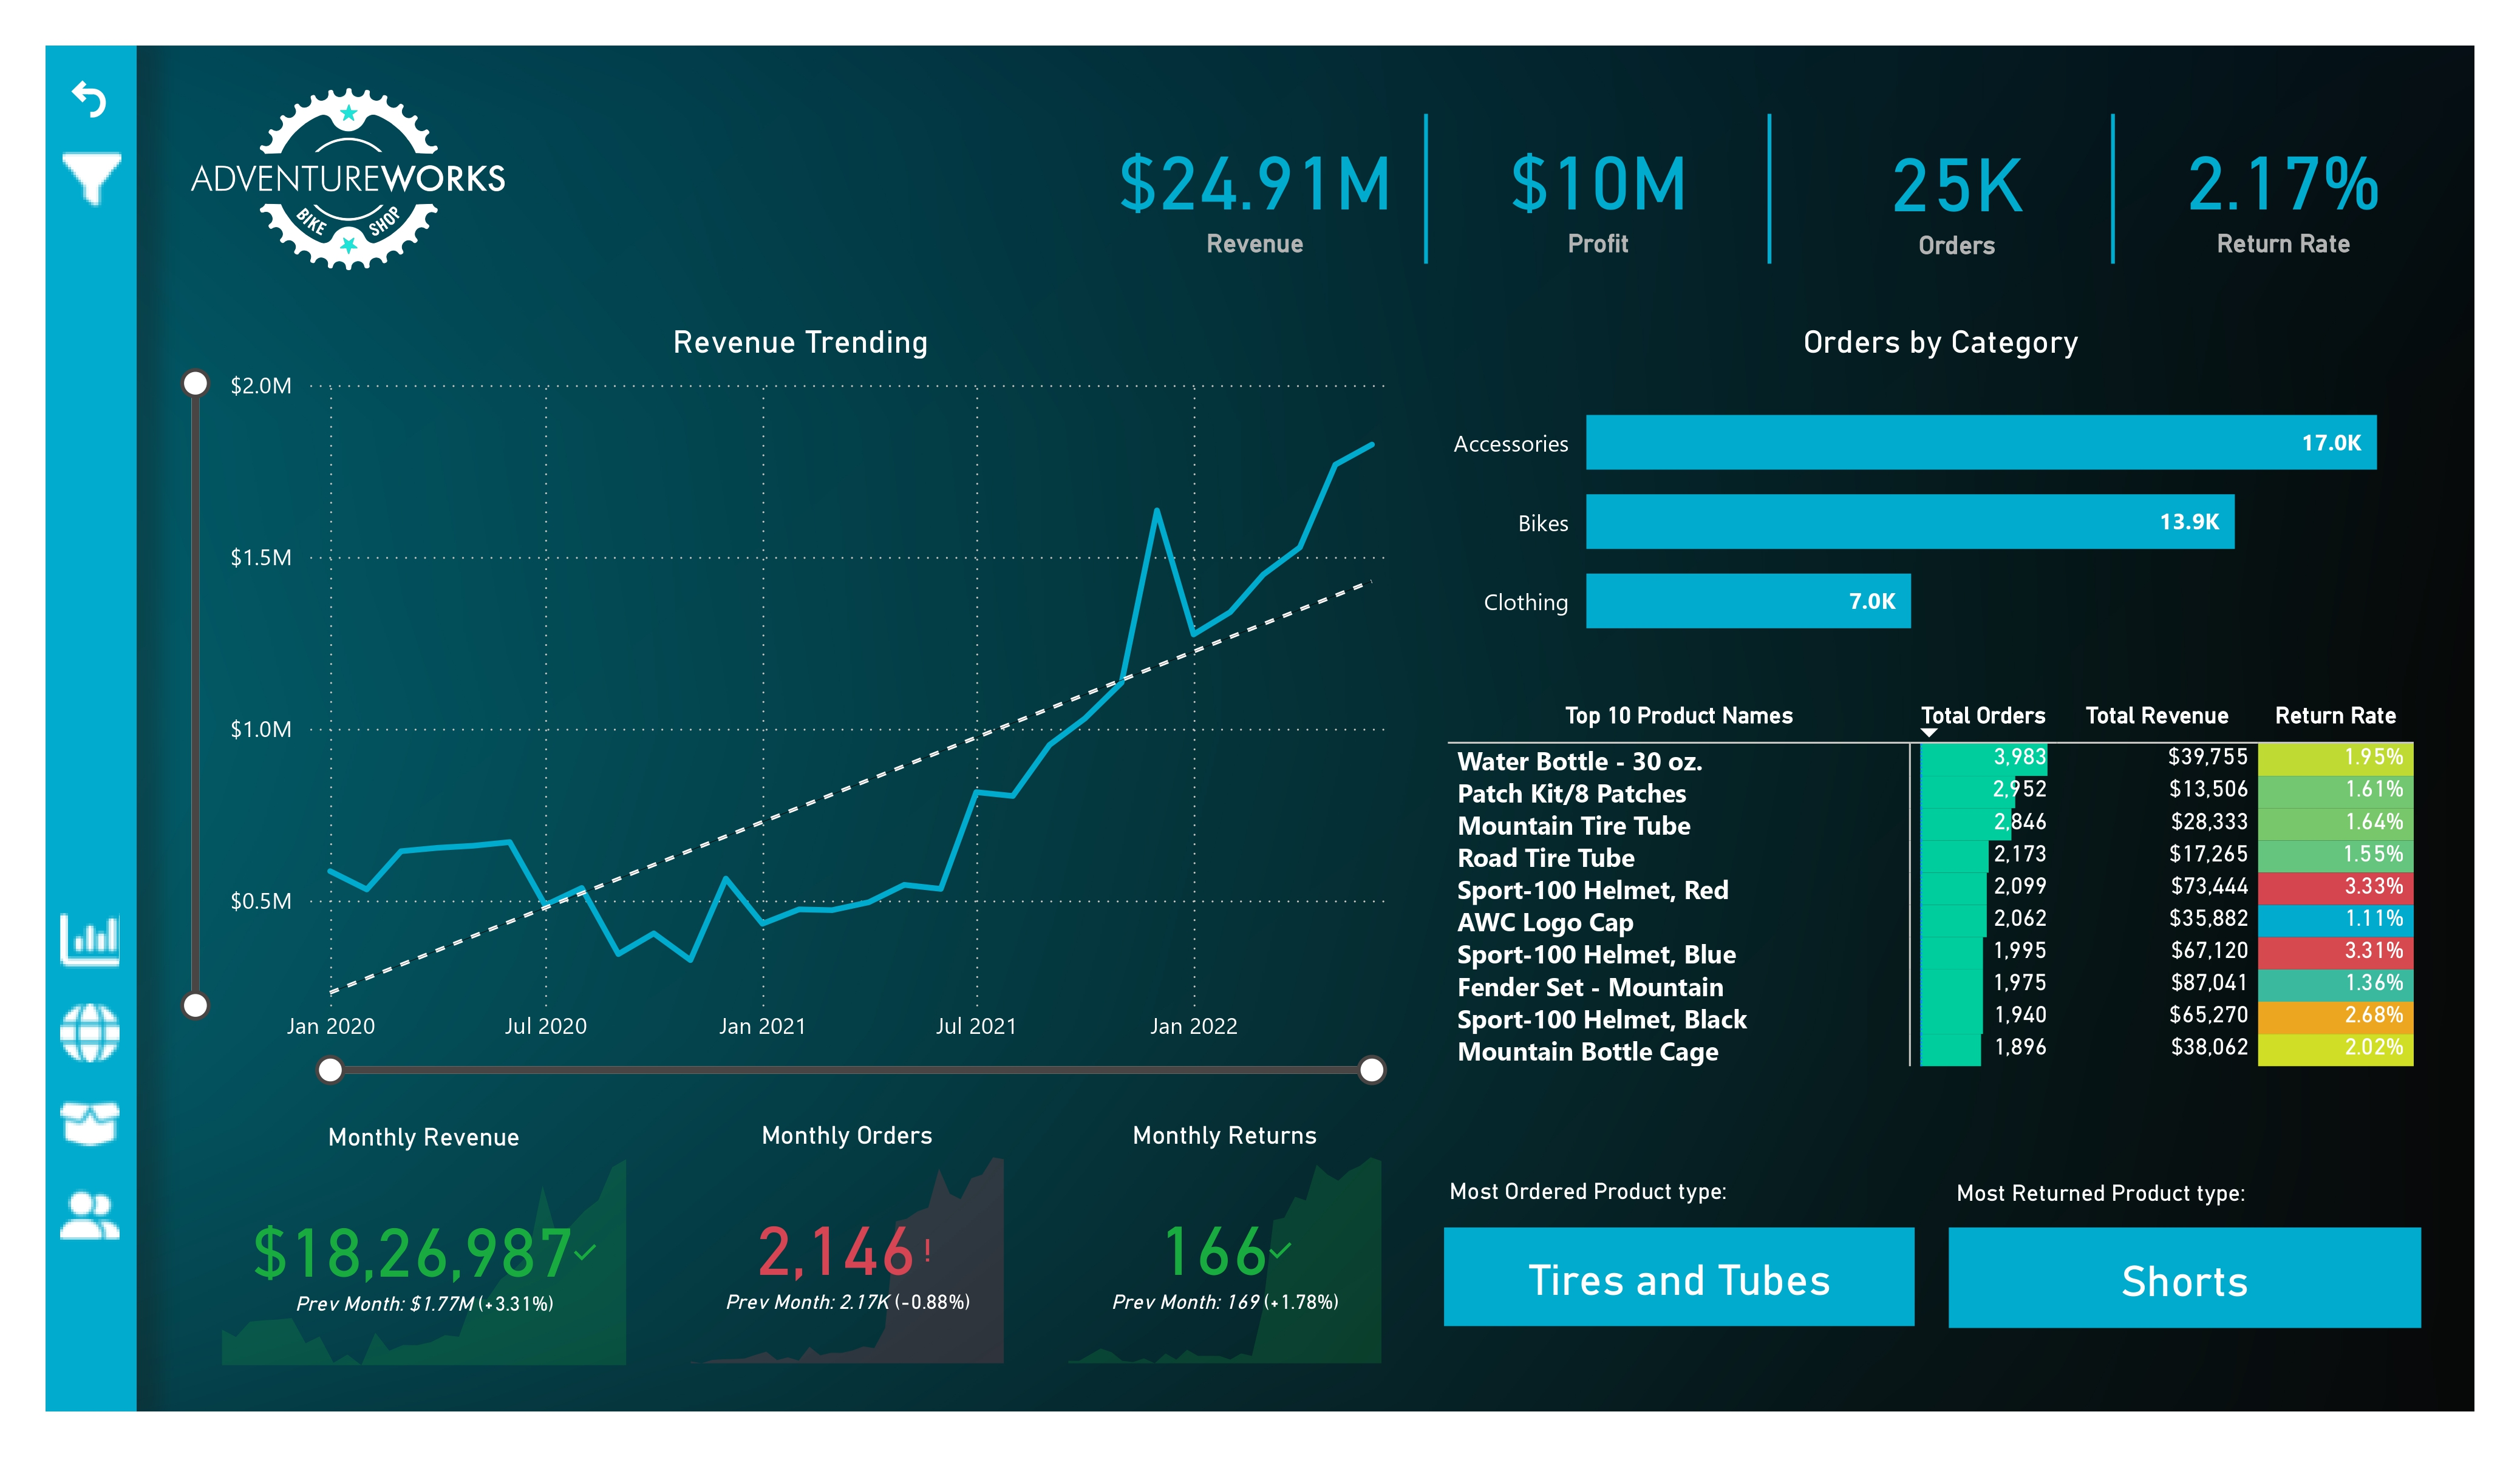

What the dashboard file says about the page in this screenshot:
{"tool":"powerbi","page":{"name":"Exces Dashboard","canvas":[1280,720],"ordinal":0},"visuals":[{"type":"shape","box":[0,0,47.6,720.1],"z":0},{"type":"image","box":[67.7,8.9,182.6,122],"z":1000},{"type":"card","fields":{"Values":["Sum(Sales Data.Revenue)"]},"box":[555.8,28.1,163,95.3],"z":2000},{"type":"card","fields":{"Values":["Measure Calculations.Total Profit"]},"box":[736.6,28.1,163,95.3],"z":3000},{"type":"card","fields":{"Values":["Measure Calculations.All Orders"]},"box":[925.9,28.5,163.2,95],"z":4000},{"type":"card","fields":{"Values":["Measure Calculations.Return Rate"]},"box":[1098.3,28.1,163,95.3],"z":5000},{"type":"shape","box":[709,36.1,37.4,79.3],"z":6000},{"type":"shape","box":[889.9,36.1,37.4,79.3],"z":7000},{"type":"shape","box":[1070.7,36.1,37.4,79.3],"z":8000},{"type":"lineChart","title":"Revenue Trending","fields":{"Y":["Measure Calculations.Total Revenue"],"Category":["Calendar Lookup.Year","Calendar Lookup.Start of Quarter","Calendar Lookup.Start of Month"]},"box":[67.7,146.1,660,405.3],"z":9000},{"type":"clusteredBarChart","title":"Orders by Category","fields":{"Category":["Product Categories Lookup.CategoryName"],"Y":["Measure Calculations.Total Orders"]},"box":[732.4,146.3,533.2,184.8],"z":10000},{"type":"pivotTable","fields":{"Rows":["Product Lookup.ProductName"],"Values":["Measure Calculations.Total Orders","Measure Calculations.Total Revenue","Measure Calculations.Return Rate"]},"box":[734.3,340.7,528.4,210.8],"z":11000},{"type":"kpi","title":"Monthly Revenue","fields":{"Indicator":["Measure Calculations.Total Revenue"],"TrendLine":["Calendar Lookup.Start of Month"],"Goal":["Measure Calculations.Previous Month Revenue"]},"box":[87.8,567.8,223.2,132.9],"z":12000},{"type":"kpi","title":"Monthly Orders","fields":{"TrendLine":["Calendar Lookup.Start of Month"],"Indicator":["Measure Calculations.Total Orders"],"Goal":["Measure Calculations.Previous Month Orders"]},"box":[334.7,567.4,175.3,133],"z":13000},{"type":"kpi","title":"Monthly Returns","fields":{"TrendLine":["Calendar Lookup.Start of Month"],"Indicator":["Measure Calculations.Total Returns"],"Goal":["Measure Calculations.Previous Month Returns"]},"box":[533.8,567.4,175.3,133],"z":14000},{"type":"card","fields":{"Values":["Min(Product Subcategories Lookup.SubcategoryName)"]},"box":[736.7,622.7,248.7,52.7],"z":15000},{"type":"textbox","box":[735,589,191.7,27.6],"z":16000},{"type":"card","fields":{"Values":["Min(Product Subcategories Lookup.SubcategoryName)"]},"box":[1003.3,623.2,248.7,52.7],"z":17000},{"type":"textbox","box":[1001.5,589.5,191.7,27.6],"z":18000},{"type":"actionButton","box":[9.2,14.1,28.3,28.3],"z":19000},{"type":"actionButton","box":[4.4,451.3,38.9,40.2],"z":20000},{"type":"actionButton","box":[4.4,499.5,38.9,40.2],"z":21000},{"type":"actionButton","box":[4.4,547.8,38.9,40.2],"z":22000},{"type":"actionButton","box":[4.4,596.1,38.9,40.2],"z":23000},{"type":"actionButton","box":[4.7,49.6,38.9,40.2],"z":24000}]}

Visuals, with their boxes on the page's 1280x720 design canvas (x1, y1, x2, y2). These are canvas units, not pixel positions in the 2520x1457 screenshot, which may show the page scaled, cropped or inside an application window:
shape: 0 0 48 720
image: 68 9 250 131
card - Sum(Sales Data.Revenue): 556 28 719 123
card - Measure Calculations.Total Profit: 737 28 900 123
card - Measure Calculations.All Orders: 926 28 1089 124
card - Measure Calculations.Return Rate: 1098 28 1261 123
shape: 709 36 746 115
shape: 890 36 927 115
shape: 1071 36 1108 115
"Revenue Trending" lineChart: 68 146 728 551
"Orders by Category" clusteredBarChart: 732 146 1266 331
pivotTable - Product Lookup.ProductName x Measure Calculations.Total Orders: 734 341 1263 552
"Monthly Revenue" kpi: 88 568 311 701
"Monthly Orders" kpi: 335 567 510 700
"Monthly Returns" kpi: 534 567 709 700
card - Min(Product Subcategories Lookup.SubcategoryName): 737 623 985 675
textbox: 735 589 927 617
card - Min(Product Subcategories Lookup.SubcategoryName): 1003 623 1252 676
textbox: 1002 590 1193 617
actionButton: 9 14 38 42
actionButton: 4 451 43 492
actionButton: 4 500 43 540
actionButton: 4 548 43 588
actionButton: 4 596 43 636
actionButton: 5 50 44 90
